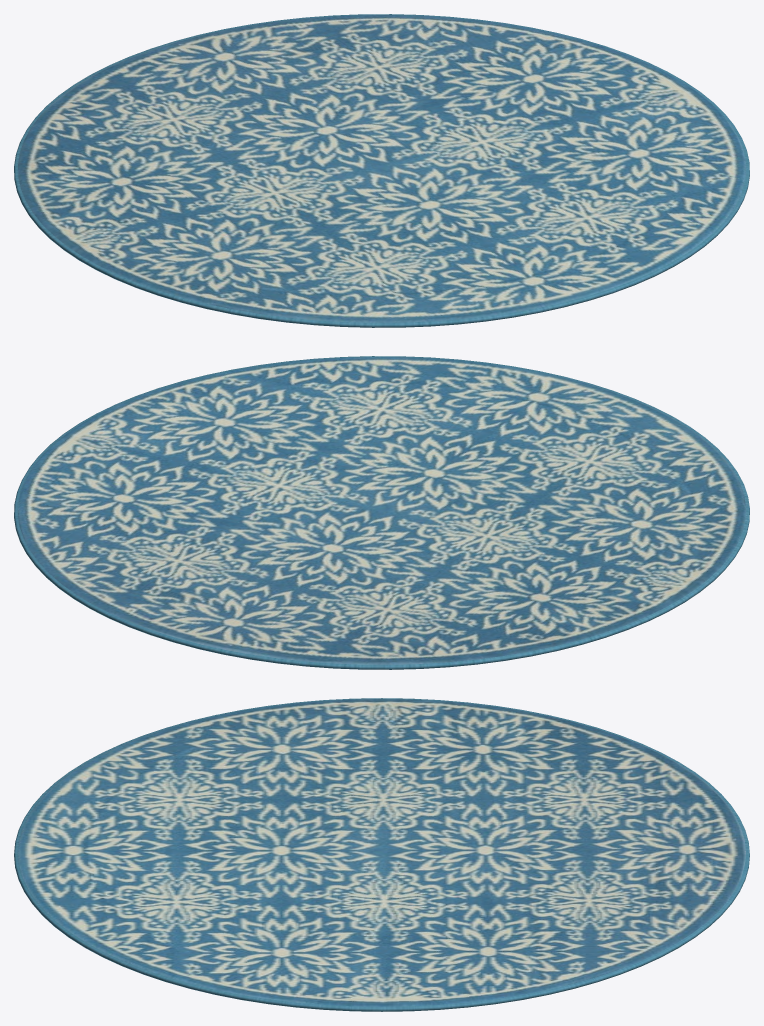
The model's file is rug-round.glb.
3 renders of one model, top to bottom at view 1: azimuth 30°, elevation 25°; view 2: azimuth 150°, elevation 25°; view 3: azimuth 270°, elevation 25°, orthographic.
Parts seen in each view (by area): view 1: RootNode; view 2: RootNode; view 3: RootNode.
Part boxes in pixels (x1=…): RootNode: x1=14, y1=14, x2=749, y2=327; RootNode: x1=14, y1=356, x2=749, y2=669; RootNode: x1=14, y1=698, x2=749, y2=1011.
Size of the model in its own units: 1.6 by 0.013 by 1.6.
Materials: 1 (1 with a texture image).
